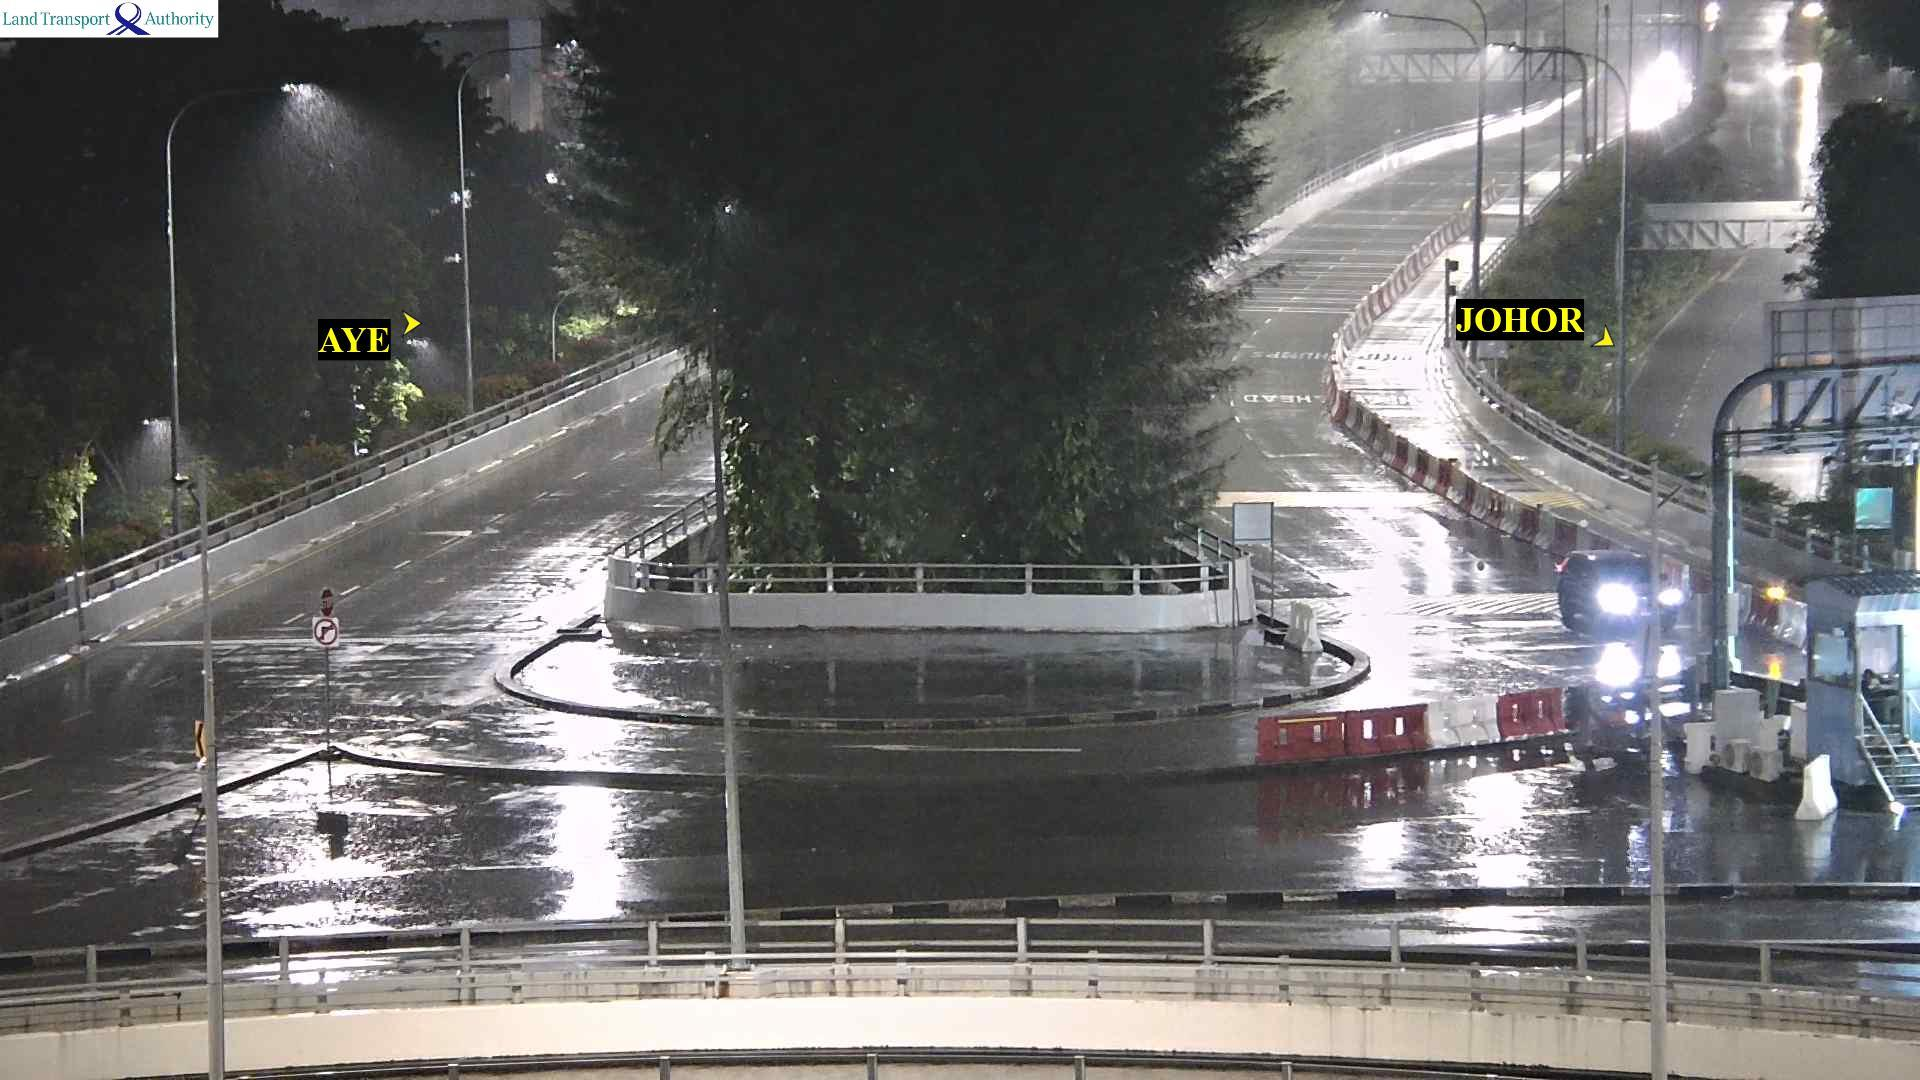vehicle-secondlink-johor: (1556, 552, 1682, 637)
